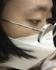with_mask: (1, 2, 56, 70)
